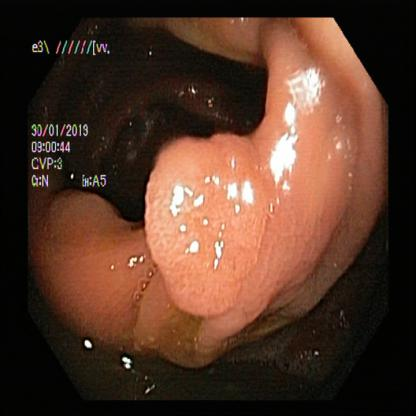Labels: (23, 111, 113, 189), (21, 32, 111, 72)
Polyps: (142, 136, 268, 304), (52, 194, 161, 336)
